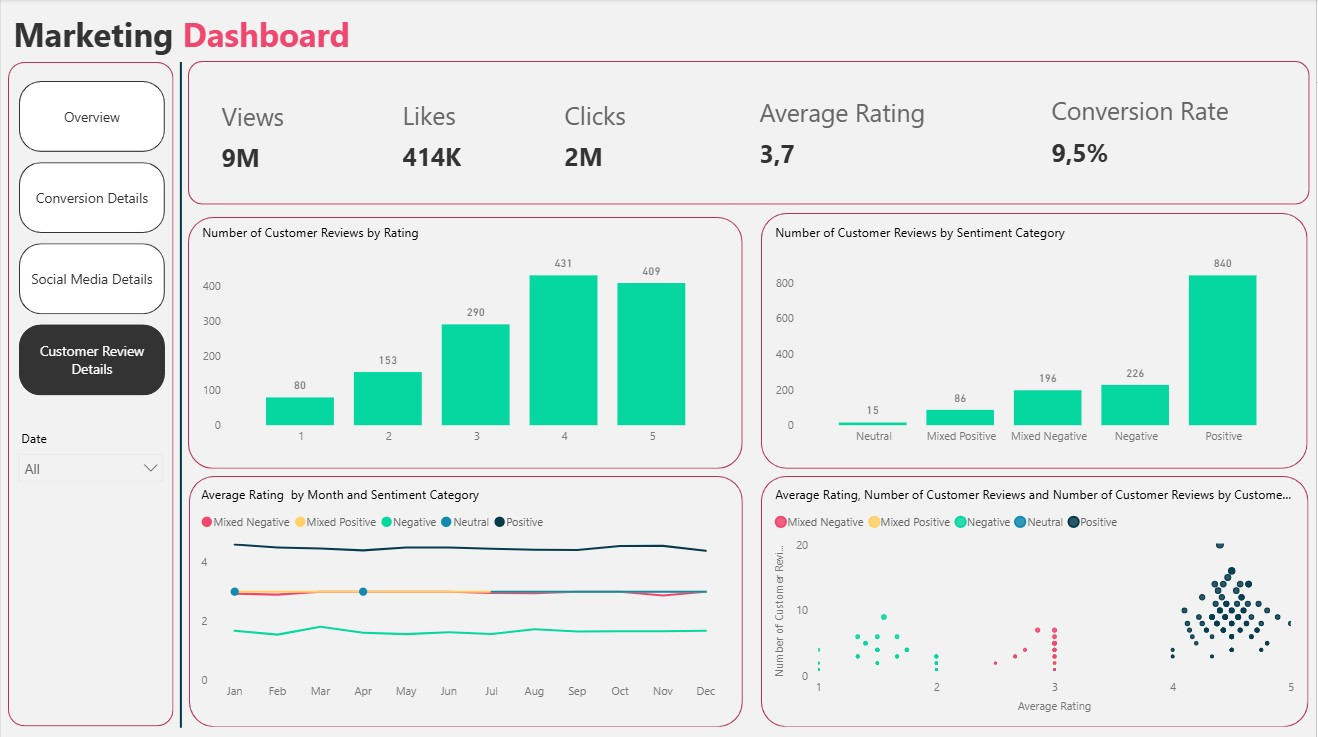

What the dashboard file says about the page in this screenshot:
{"tool":"powerbi","page":{"name":"Customer Review Details","canvas":[1280,720],"ordinal":3},"visuals":[{"type":"shape","box":[739.7,463.9,532.8,244.5],"z":0},{"type":"shape","box":[740.2,208.1,532,249],"z":1000},{"type":"shape","box":[182.7,463.9,539.1,244.5],"z":2000},{"type":"shape","box":[7.2,61.8,161.2,646.6],"z":3000},{"type":"shape","box":[181.9,212,539.8,245.1],"z":4000},{"type":"shape","box":[181.8,60,1091.6,139.7],"z":5000},{"type":"cardVisual","fields":{"Data":["_Calculations.Conversion Rate"]},"box":[1005.7,66.1,215.9,124.5],"z":6000},{"type":"cardVisual","fields":{"Data":["_Calculations.Rating (Average)"]},"box":[721.7,73.9,235.4,112.8],"z":7000},{"type":"cardVisual","fields":{"Data":["_Calculations.Views"]},"box":[197.4,75.9,157.6,116.7],"z":8000},{"type":"cardVisual","fields":{"Data":["_Calculations.Clicks"]},"box":[531.1,75.9,176,114.8],"z":9000},{"type":"cardVisual","fields":{"Data":["_Calculations.Likes"]},"box":[373.5,75.9,157.6,114.8],"z":10000},{"type":"shape","box":[168.4,61.8,13.4,648.4],"z":11000},{"type":"pageNavigator","box":[17.5,79.8,143,306.4],"z":12000},{"type":"slicer","fields":{"Values":["Calendar.YearMonthShort"]},"box":[6.8,414.3,161.5,59.3],"z":13000},{"type":"textbox","box":[6.8,6.8,366.7,53.5],"z":14000},{"type":"columnChart","fields":{"Category":["fact_customer_reviews_with_sentiment.Rating"],"Y":["_Calculations.Number of Customer Reviews"]},"box":[190.8,219,516.9,224.9],"z":14001},{"type":"columnChart","fields":{"Category":["fact_customer_reviews_with_sentiment.SentimentCategory"],"Y":["_Calculations.Number of Customer Reviews"]},"box":[748.5,219,514.9,224.9],"z":14002},{"type":"lineChart","fields":{"Category":["Calendar.MonthNameShort"],"Series":["fact_customer_reviews_with_sentiment.SentimentCategory"],"Y":["_Calculations.Rating (Average)"]},"box":[189.8,474,517.8,217.1],"z":14003},{"type":"scatterChart","fields":{"Category":["dim_customers.CustomerID"],"Series":["fact_customer_reviews_with_sentiment.SentimentCategory"],"Size":["_Calculations.Number of Customer Reviews"],"X":["_Calculations.Rating (Average)"],"Y":["_Calculations.Number of Customer Reviews"]},"box":[748.5,474,514.9,225.8],"z":14004}]}

Visuals, with their boxes in screenshot pixels (x1, y1, x2, y2), scaled from the page's 1280x720 canvas onto the 1318x737 screenshot:
shape: {"x1": 762, "y1": 475, "x2": 1310, "y2": 725}
shape: {"x1": 762, "y1": 213, "x2": 1310, "y2": 468}
shape: {"x1": 188, "y1": 475, "x2": 743, "y2": 725}
shape: {"x1": 7, "y1": 63, "x2": 173, "y2": 725}
shape: {"x1": 187, "y1": 217, "x2": 743, "y2": 468}
shape: {"x1": 187, "y1": 61, "x2": 1311, "y2": 204}
cardVisual - _Calculations.Conversion Rate: {"x1": 1036, "y1": 68, "x2": 1258, "y2": 195}
cardVisual - _Calculations.Rating (Average): {"x1": 743, "y1": 76, "x2": 986, "y2": 191}
cardVisual - _Calculations.Views: {"x1": 203, "y1": 78, "x2": 366, "y2": 197}
cardVisual - _Calculations.Clicks: {"x1": 547, "y1": 78, "x2": 728, "y2": 195}
cardVisual - _Calculations.Likes: {"x1": 385, "y1": 78, "x2": 547, "y2": 195}
shape: {"x1": 173, "y1": 63, "x2": 187, "y2": 727}
pageNavigator: {"x1": 18, "y1": 82, "x2": 165, "y2": 395}
slicer - Calendar.YearMonthShort: {"x1": 7, "y1": 424, "x2": 173, "y2": 485}
textbox: {"x1": 7, "y1": 7, "x2": 385, "y2": 62}
columnChart - fact_customer_reviews_with_sentiment.Rating x _Calculations.Number of Customer Reviews: {"x1": 196, "y1": 224, "x2": 729, "y2": 454}
columnChart - fact_customer_reviews_with_sentiment.SentimentCategory x _Calculations.Number of Customer Reviews: {"x1": 771, "y1": 224, "x2": 1301, "y2": 454}
lineChart - Calendar.MonthNameShort x fact_customer_reviews_with_sentiment.SentimentCategory: {"x1": 195, "y1": 485, "x2": 729, "y2": 707}
scatterChart - dim_customers.CustomerID x fact_customer_reviews_with_sentiment.SentimentCategory: {"x1": 771, "y1": 485, "x2": 1301, "y2": 716}
